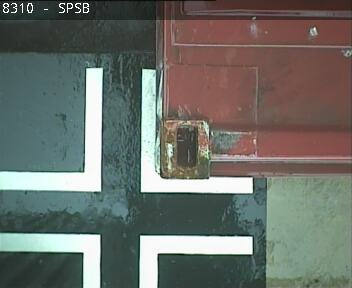groundmarker_1: (1, 67, 253, 194), (1, 231, 251, 288)
